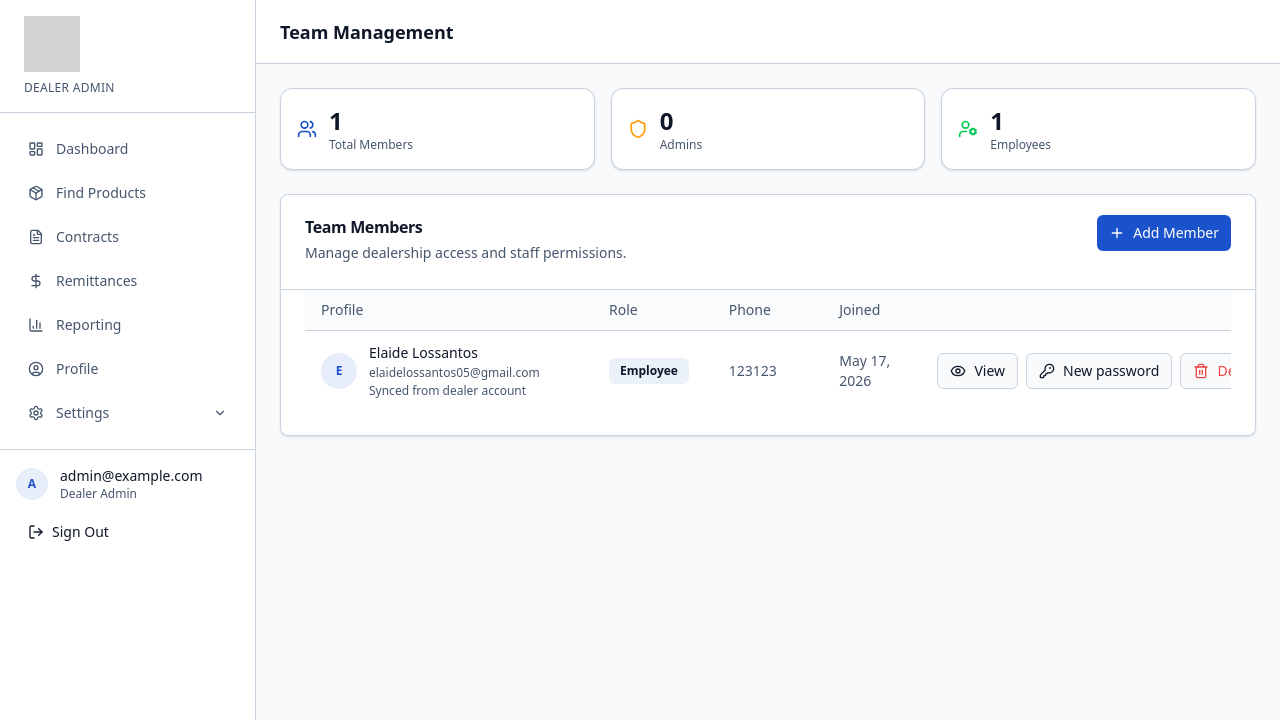
Test: dealership settings team creation › shows a team member profile with email, phone, role, joined date, and source
Expected: the text "Elaide Lossantos" is shown, [369,342,478,362]
Click the button "View": (978, 370) [937,352,1018,388]
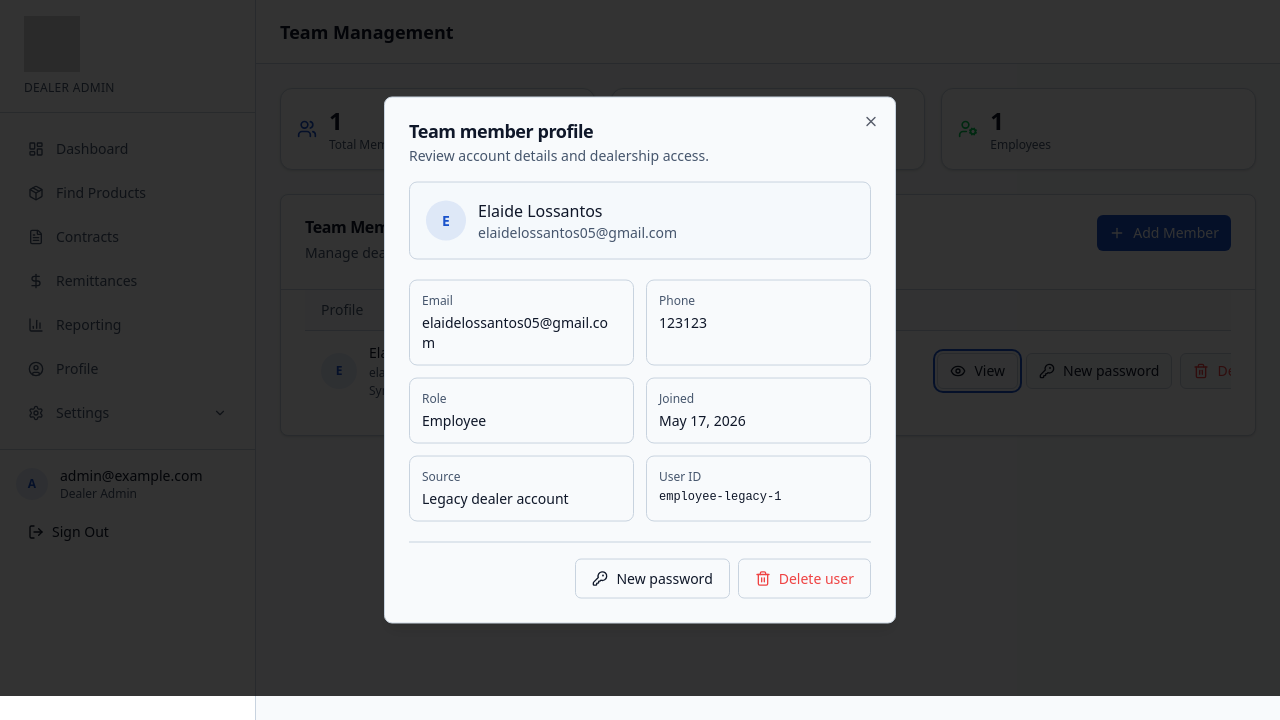
Result: the heading "Team member profile" is shown at [409,118,593,142]
Result: the text "Legacy dealer account" is shown at [422,488,569,508]
Result: the text "employee-legacy-1" is shown at [659,490,781,504]
